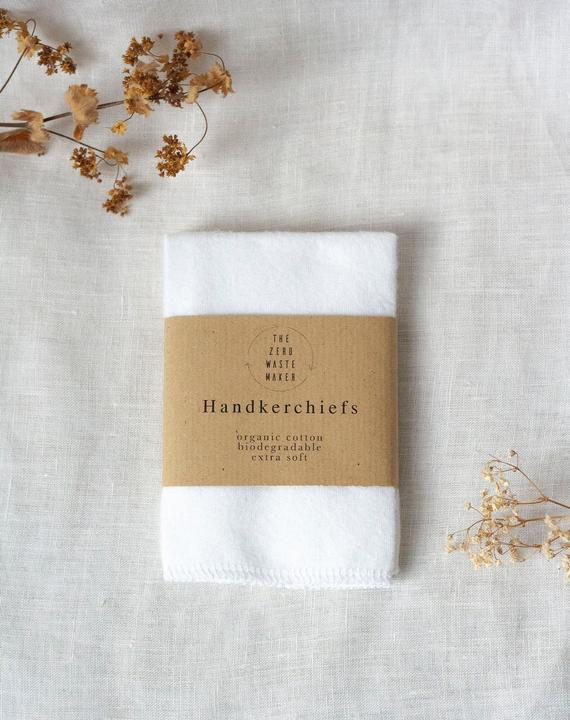Tissue: (151, 224, 410, 593)
